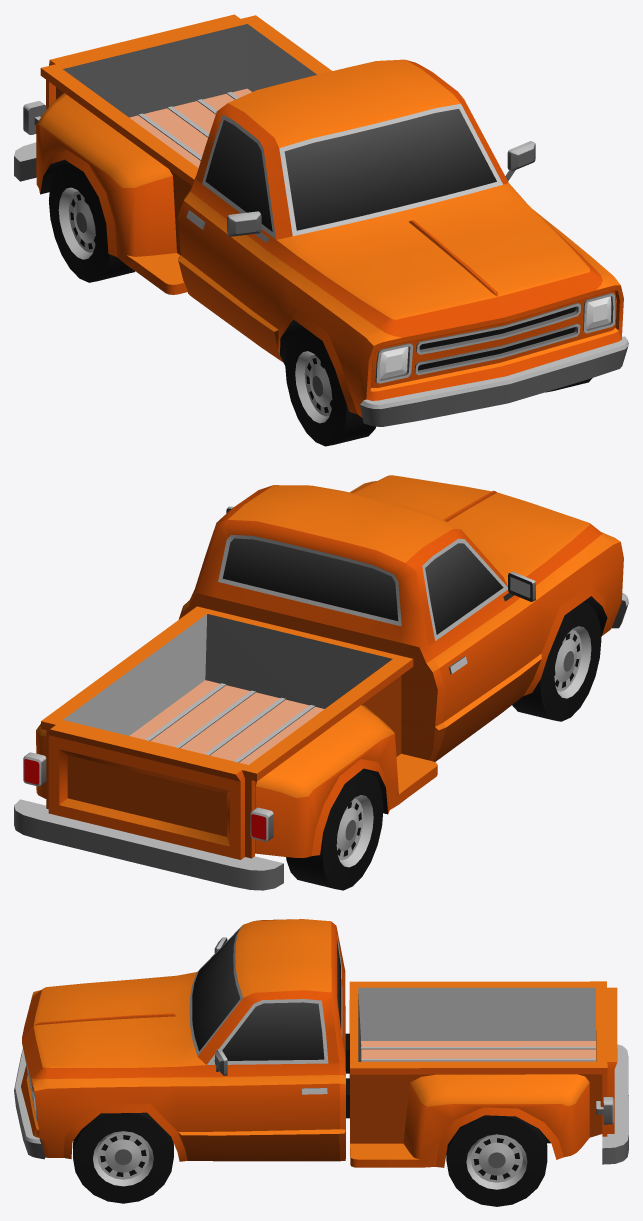
Rendered from Farm Truck 1.fbx.
3 views of the same model, one above another, from view 1: azimuth 30°, elevation 25°; view 2: azimuth 150°, elevation 25°; view 3: azimuth 270°, elevation 25° (orthographic). The views are drawn at different scales.
Visible parts, largest first — view 1: Farm_Truck_1_Body, F_R, B_R, Farm_Truck_1_Lights; view 2: Farm_Truck_1_Body, B_R, F_R, Farm_Truck_1_Lights; view 3: Farm_Truck_1_Body, B_L, F_L.
Boxes of the visible parts, x1,y1,x2,y2 form: Farm_Truck_1_Body: (14,14,628,426); F_R: (285,327,375,446); B_R: (49,163,135,282); Farm_Truck_1_Lights: (379,296,611,379); Farm_Truck_1_Body: (14,475,628,890); B_R: (286,770,383,890); F_R: (512,602,601,721); Farm_Truck_1_Lights: (24,759,266,839); Farm_Truck_1_Body: (14,919,628,1167); B_L: (446,1115,547,1206); F_L: (73,1112,173,1203).
Bounding box in the file's own units: 230 × 176 × 483.
